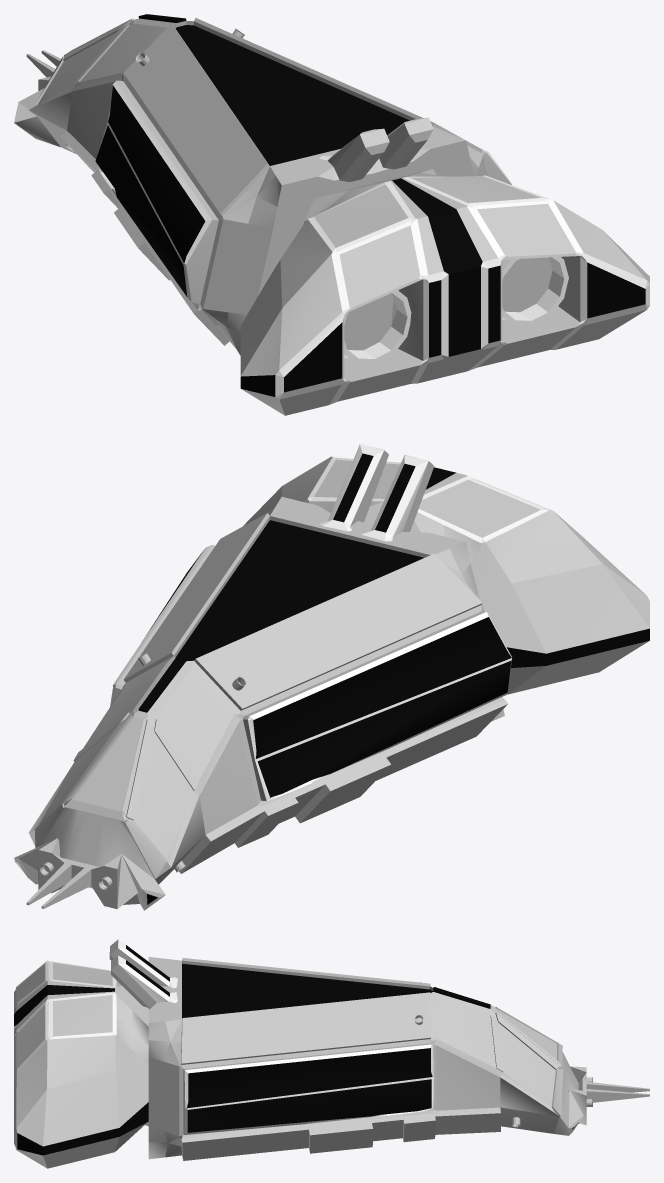
File: lunarshuttle_poly.dae
3 views of the same model, one above another, from view 1: azimuth 30°, elevation 25°; view 2: azimuth 150°, elevation 25°; view 3: azimuth 270°, elevation 25° (orthographic). The views are drawn at different scales.
Parts seen in each view (by area): view 1: Cube, pattern, Cylinder2, Cylinder1; view 2: Cube, pattern, Cylinder; view 3: Cube, pattern.
Part boxes in pixels (x1,y1,x2,y2): Cube: [14, 18, 649, 415]; pattern: [95, 14, 645, 396]; Cylinder2: [502, 257, 568, 325]; Cylinder1: [344, 290, 411, 363]; Cube: [14, 444, 649, 910]; pattern: [138, 453, 649, 904]; Cylinder: [39, 652, 246, 890]; Cube: [14, 939, 649, 1168]; pattern: [14, 945, 573, 1155].
Size of the model in its own units: 10.4 by 6.28 by 18.91.
